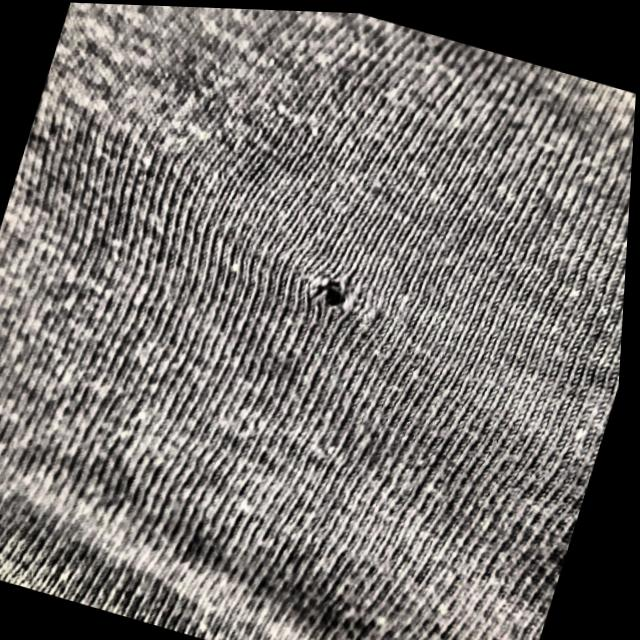Hole: (318, 270, 413, 345)
